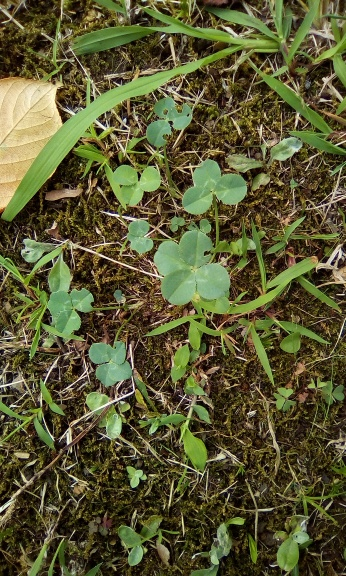4leaf: (154, 229, 232, 306), (88, 341, 132, 389)
